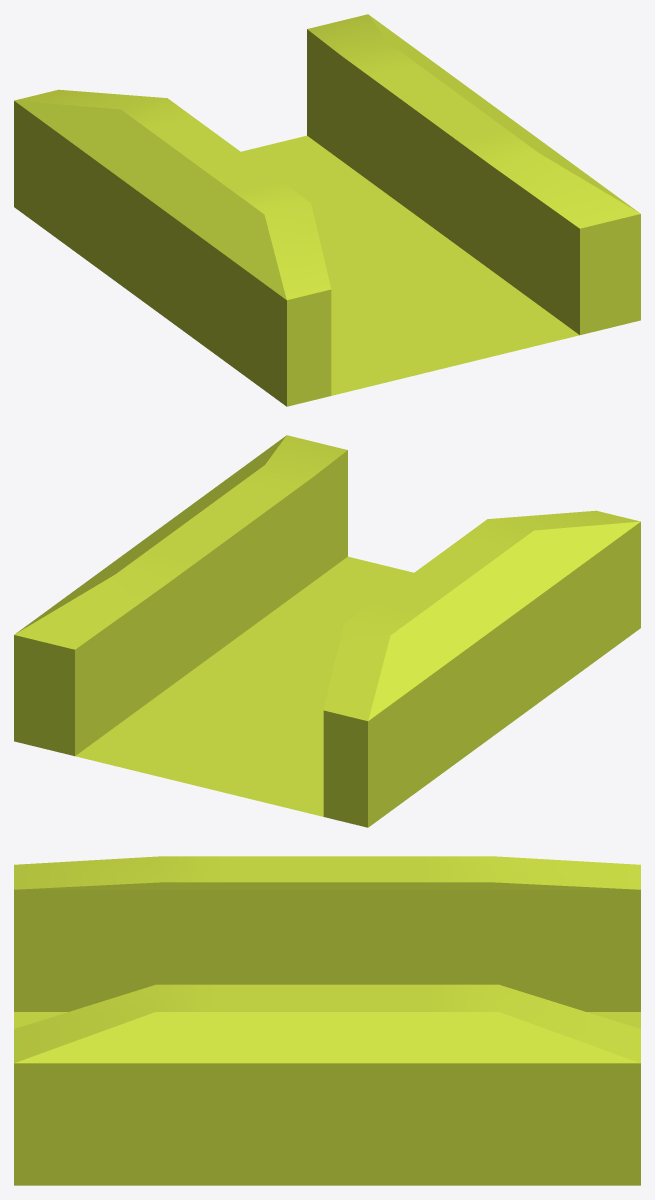
The model's file is FactoryPipeline.004.fbx.
The picture shows the model from 3 angles, top to bottom: view 1: azimuth 30°, elevation 25°; view 2: azimuth 150°, elevation 25°; view 3: azimuth 270°, elevation 25°; orthographic projection. The views are drawn at different scales.
Visible parts, largest first — view 1: FactoryPipeline.004; view 2: FactoryPipeline.004; view 3: FactoryPipeline.004.
Part boxes in pixels (x1,y1,x2,y2): FactoryPipeline.004: [14, 14, 640, 406]; FactoryPipeline.004: [14, 435, 640, 827]; FactoryPipeline.004: [14, 856, 640, 1185].
Size of the model in its own units: 38.88 by 14.12 by 51.88.
